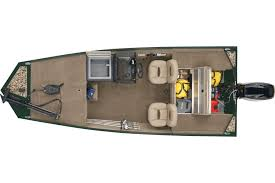boat: (1, 46, 275, 138)
